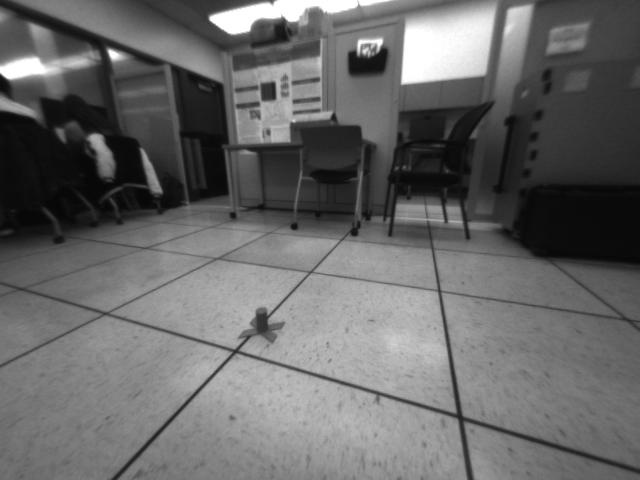X: (237, 305, 286, 343)
